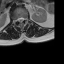CCS_normal: (19, 15, 22, 24)
LFS_normal: (24, 15, 26, 22)
LLS_normal: (22, 15, 24, 23)
RFS_normal: (15, 16, 17, 23)
RLS_normal: (17, 15, 19, 24)
